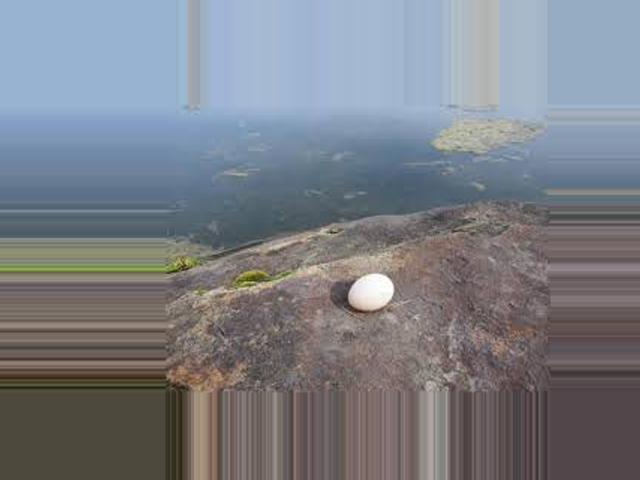egg: (348, 272, 396, 310)
